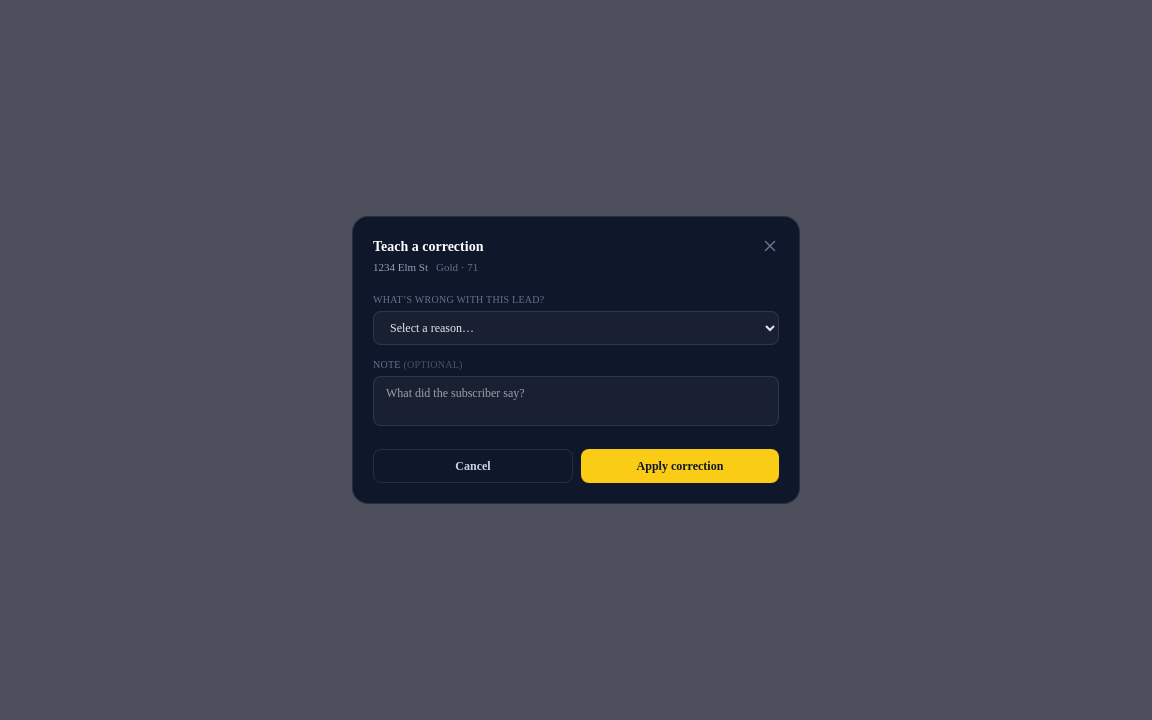
Test: TeachLeadModal › blocks wrong_distress submit without a signal
This screenshot has width=1152, height=720.
Step 1. Select "A distress signal is wrong" in the dropdown labelled "What’s wrong with this lead?" → (576, 328), box [373,311,779,345]
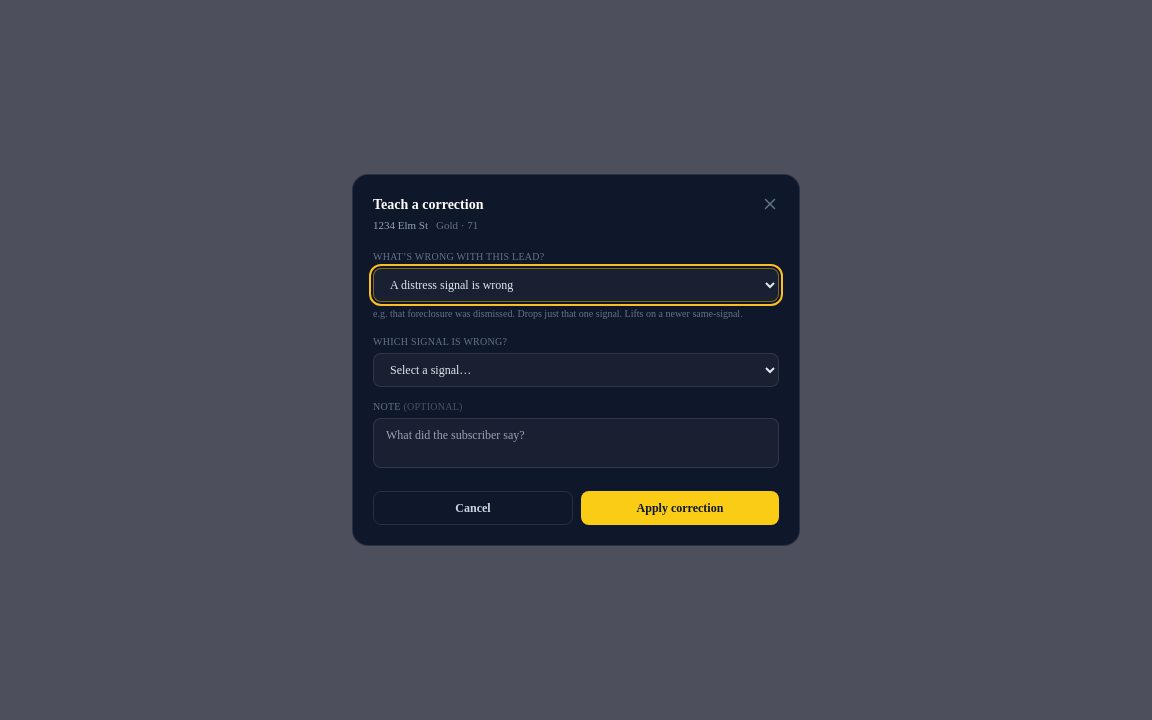
Step 2. Click the button "Apply correction" → (680, 508), box [581,491,779,525]
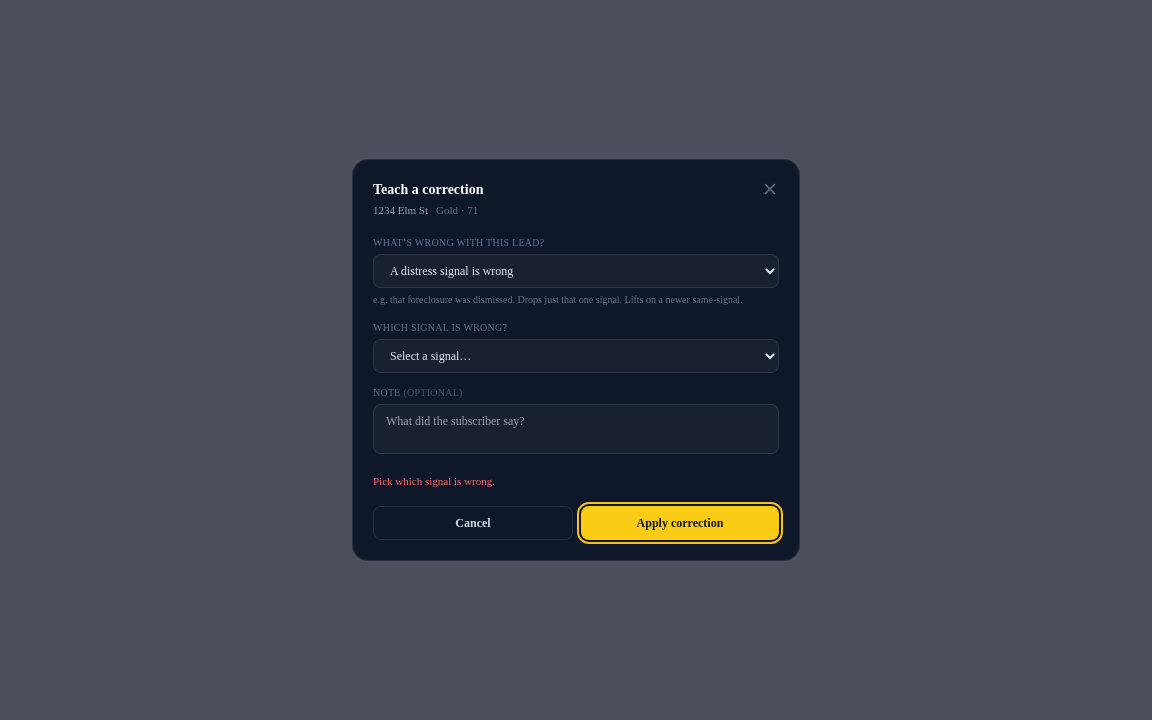
Expected: the message shows "which signal", [373,475,495,487]
